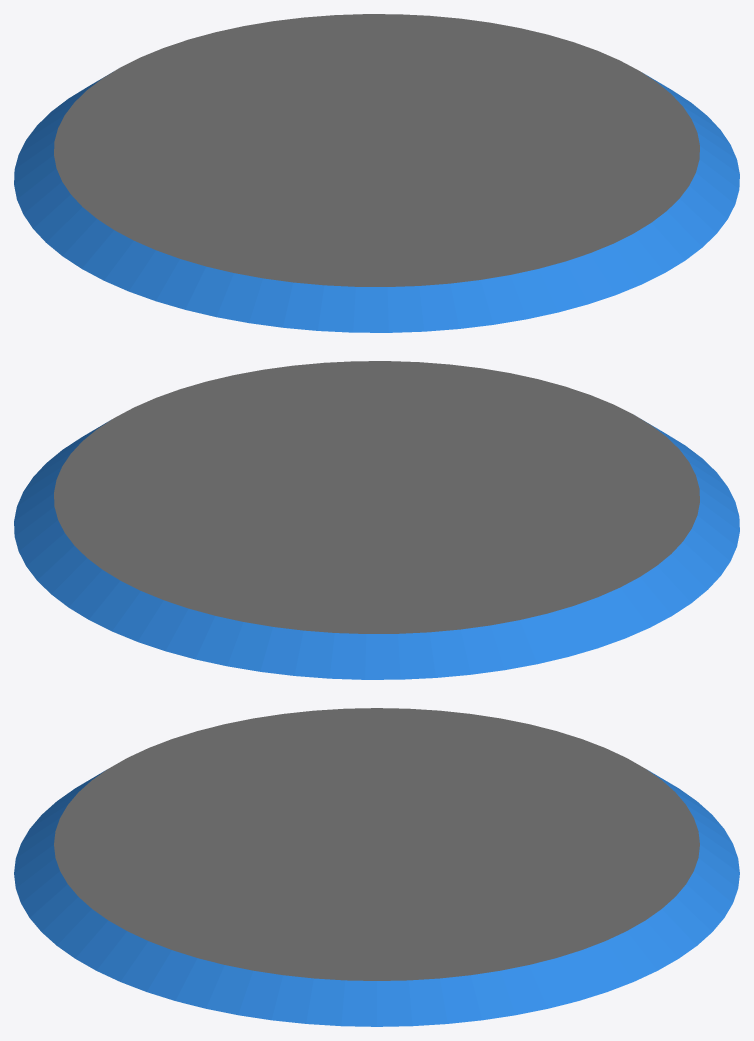
File: FlagBase.fbx
3 renders of one model, top to bottom at view 1: azimuth 30°, elevation 25°; view 2: azimuth 150°, elevation 25°; view 3: azimuth 270°, elevation 25°, orthographic.
Parts seen in each view (by area): view 1: Cylinder; view 2: Cylinder; view 3: Cylinder.
Part boxes in pixels (x1=…): Cylinder: x1=14, y1=14, x2=739, y2=332; Cylinder: x1=14, y1=361, x2=739, y2=679; Cylinder: x1=14, y1=708, x2=739, y2=1026.
Size of the model in its own units: 200 by 200 by 8.81.
